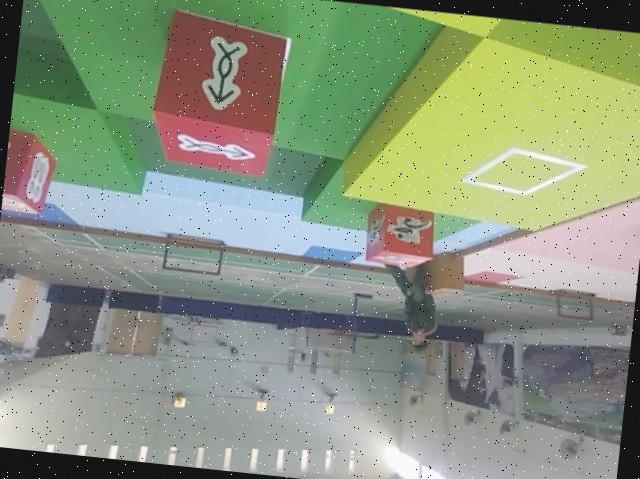R1: (362, 200, 441, 273)
R2 Fake: (2, 120, 62, 216)
R2 Real: (144, 4, 293, 181)
